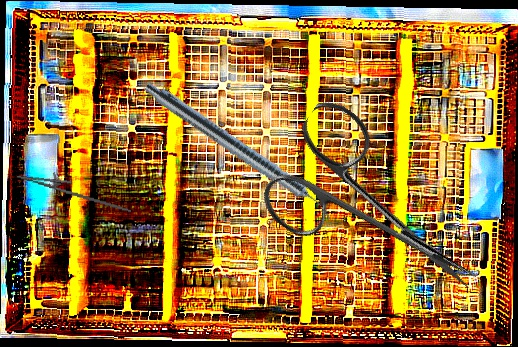Handpiece: (139, 78, 339, 224)
Iris Scissors: (248, 93, 513, 334)
Needle Holder: (14, 165, 136, 214)
